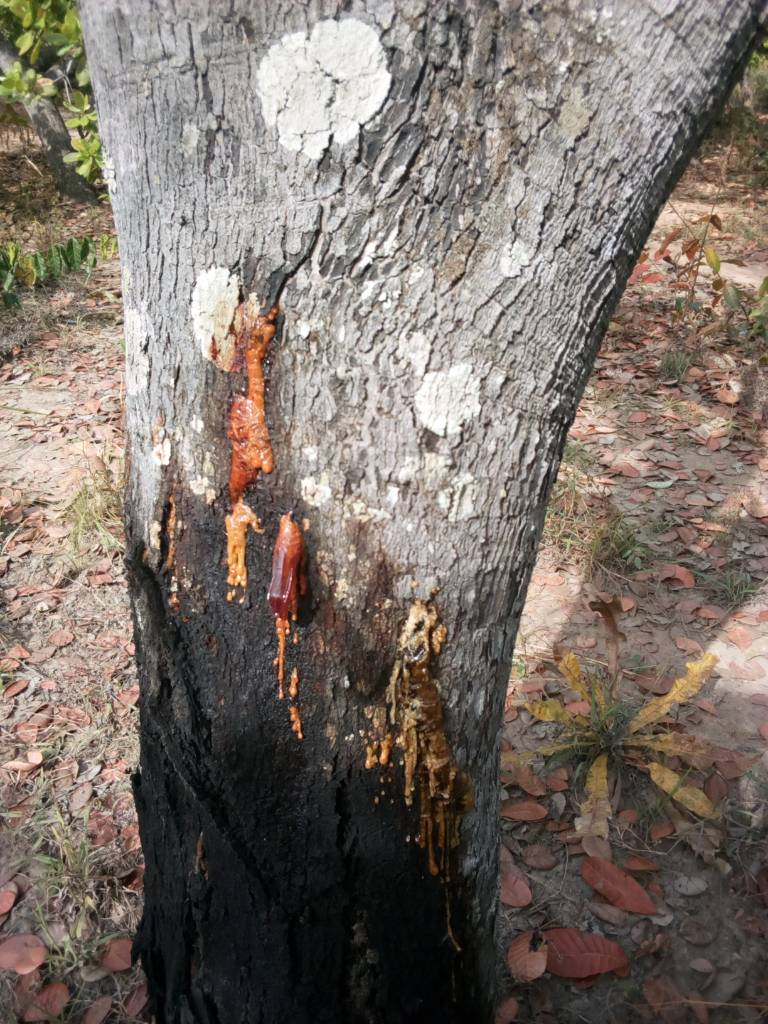Gommose: (174, 327, 471, 1024)
